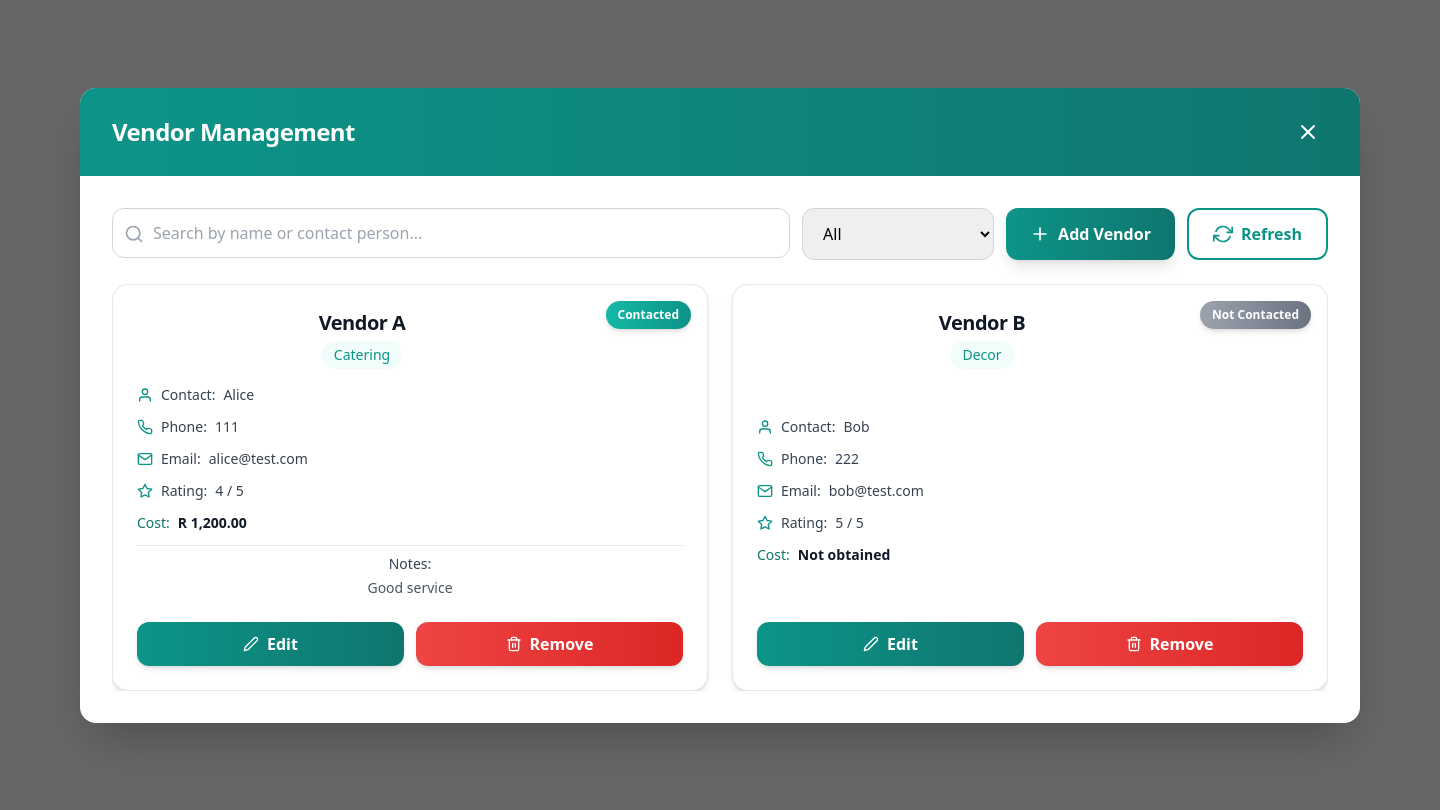
Test: VendorsModal › filters vendors by search term
Expected: the heading "Vendor A" is shown, x1=319 y1=308 x2=405 y2=336
Type "Alice" into the field with placeholder "Search by name or contact person..." at {"x": 451, "y": 232}, box x1=112 y1=208 x2=790 y2=258
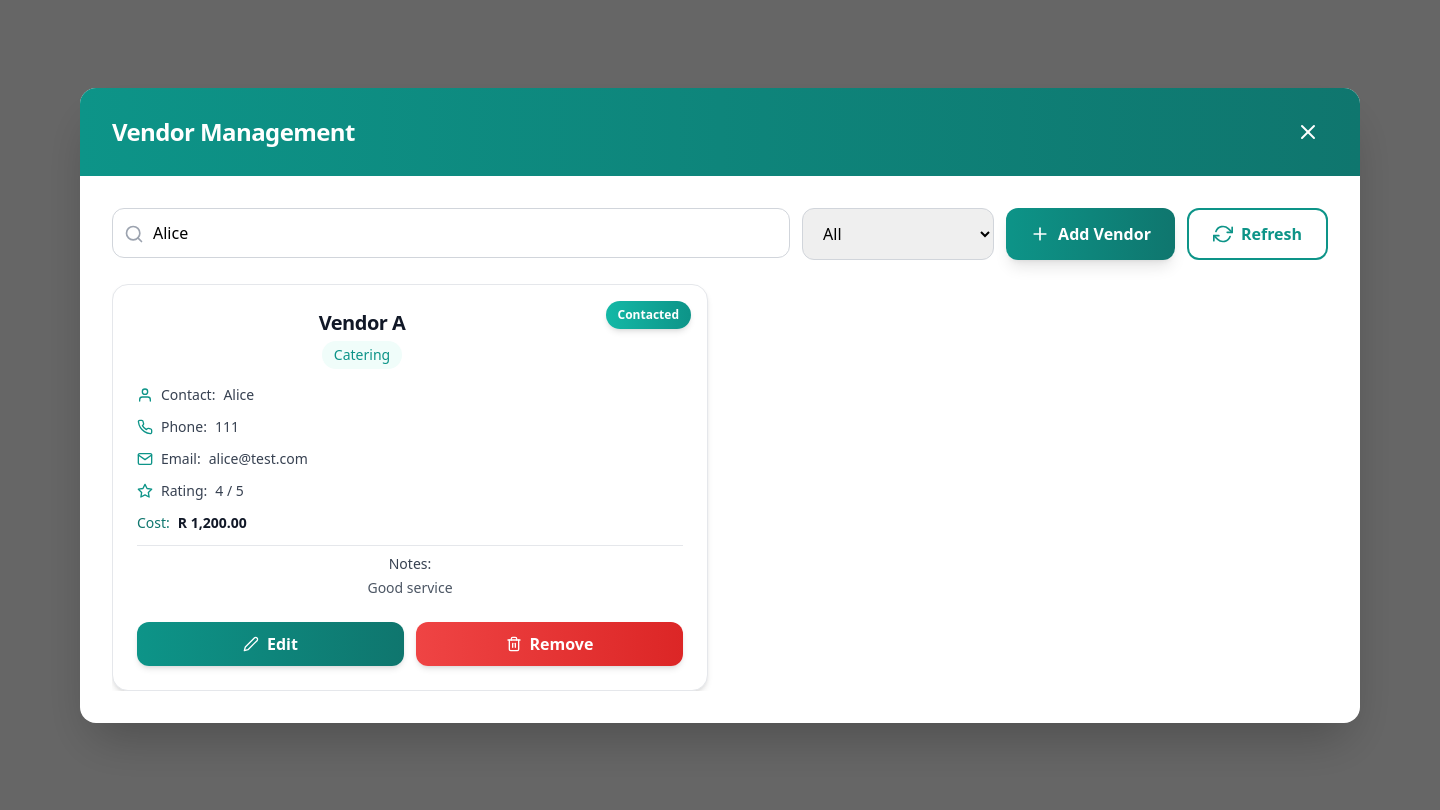
Expected: the heading "Vendor A" is shown, x1=319 y1=308 x2=405 y2=336
Expected: the heading "Vendor B" is gone
